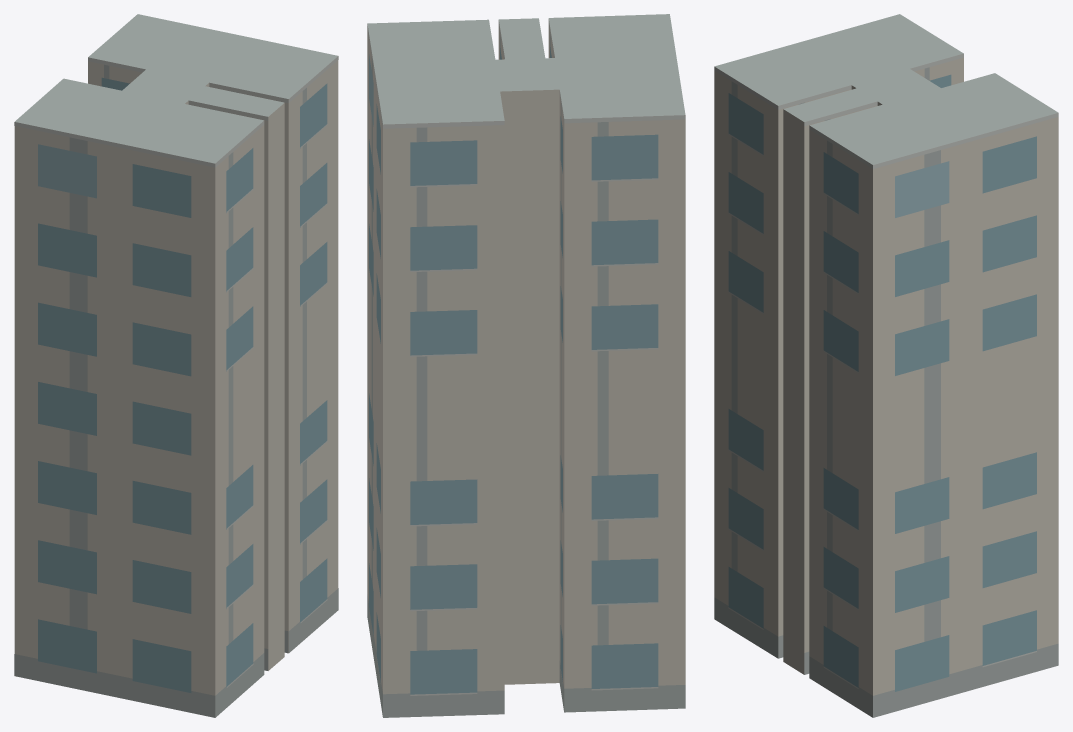
Rendered from survey-upis-32683172.glb.
3 views of the same model, side by side, from view 1: azimuth 30°, elevation 25°; view 2: azimuth 150°, elevation 25°; view 3: azimuth 270°, elevation 25° (orthographic). The views are drawn at different scales.
Parts seen in each view (by area): view 1: survey-upis-32683172.tmp; view 2: survey-upis-32683172.tmp; view 3: survey-upis-32683172.tmp.
Boxes of the visible parts, bbox=[...] form: survey-upis-32683172.tmp: bbox=[14, 14, 338, 717]; survey-upis-32683172.tmp: bbox=[367, 14, 685, 717]; survey-upis-32683172.tmp: bbox=[714, 14, 1058, 717].
Size of the model in its own units: 19.68 by 33.55 by 18.96.
